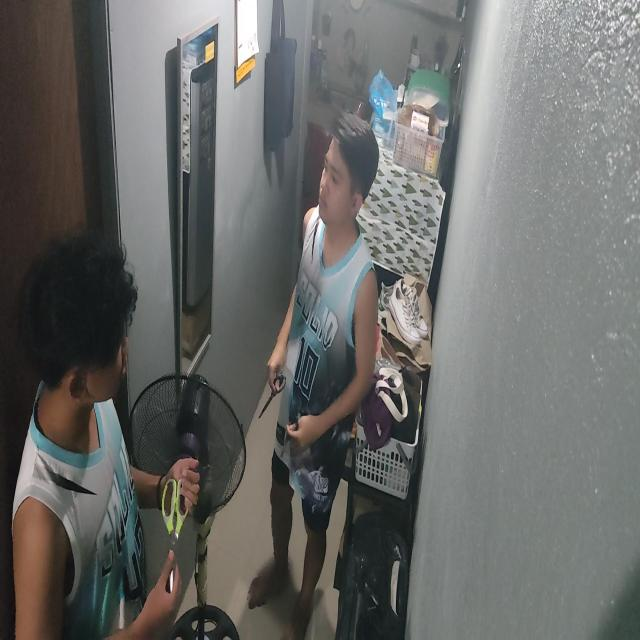scissor: (158, 478, 193, 601), (256, 369, 286, 420)
